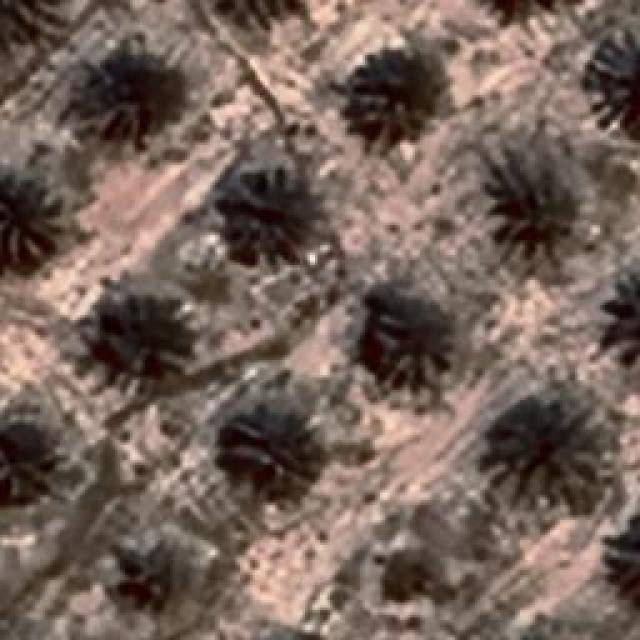PalmTree: (32, 29, 624, 558), (484, 394, 608, 508), (215, 408, 315, 506), (366, 278, 454, 382), (348, 48, 442, 142), (498, 158, 580, 258), (92, 50, 190, 128), (102, 288, 182, 382), (0, 412, 80, 504), (112, 534, 194, 616), (230, 176, 305, 252), (0, 168, 60, 262), (584, 28, 638, 130), (600, 265, 638, 365), (211, 0, 305, 28), (469, 0, 576, 24), (238, 625, 329, 640)
